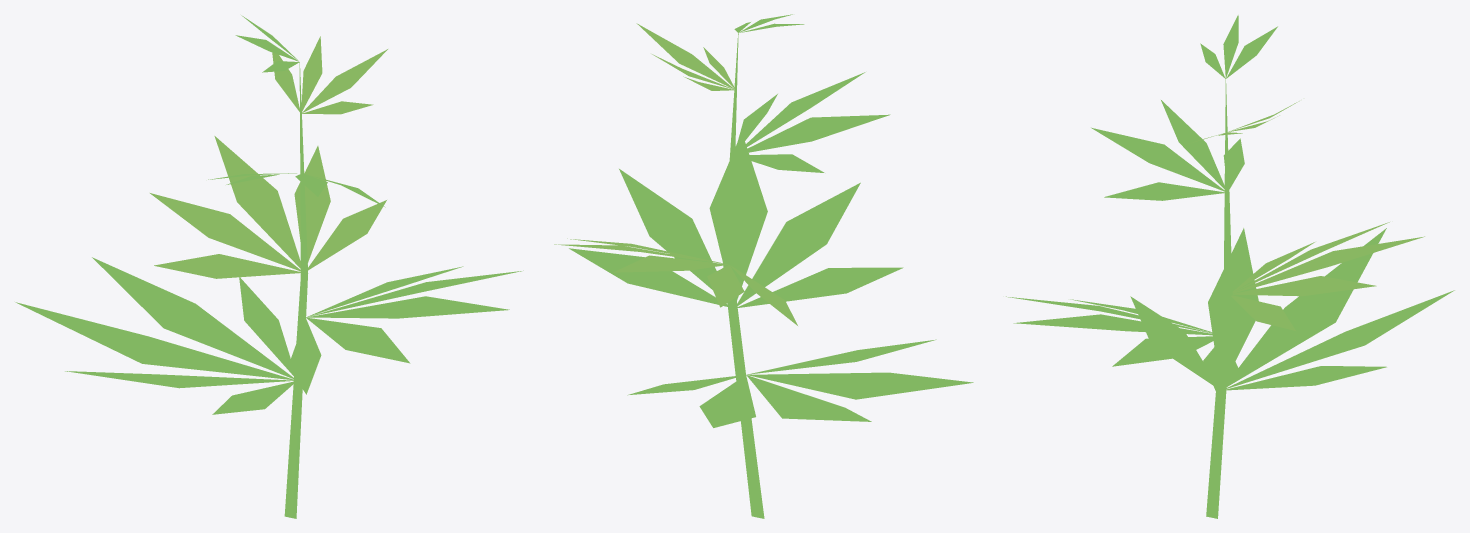
Rendered from Plant_i_OneS_04.fbx.
The picture shows the model from 3 angles, left to right: view 1: azimuth 30°, elevation 25°; view 2: azimuth 150°, elevation 25°; view 3: azimuth 270°, elevation 25°; orthographic projection. The views are drawn at different scales.
Visible parts, largest first — view 1: Plant_i_OneS_04; view 2: Plant_i_OneS_04; view 3: Plant_i_OneS_04.
Part boxes in pixels (<box>): Plant_i_OneS_04: <box>15,15,523,518</box>; Plant_i_OneS_04: <box>554,14,973,518</box>; Plant_i_OneS_04: <box>1006,15,1454,518</box>.
Bounding box in the file's own units: 0.5516 × 0.6452 × 0.5509.
